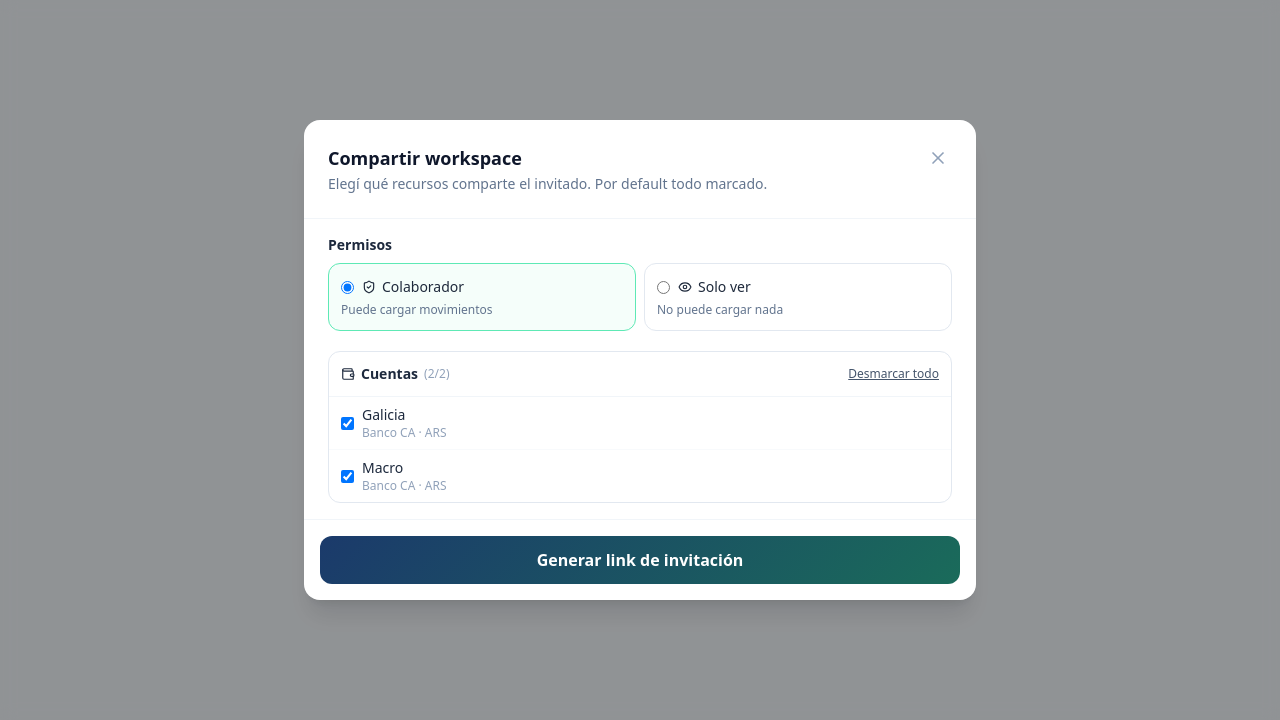
Test: ShareWorkspaceModal — secciones › "Desmarcar todo" desmarca toda la sección
The image size is (1280, 720).
Expected: the text "Galicia" is shown, [362,405,406,424]
Click the button "Desmarcar todo" at coordinates (894, 374), box [848,366,939,382]
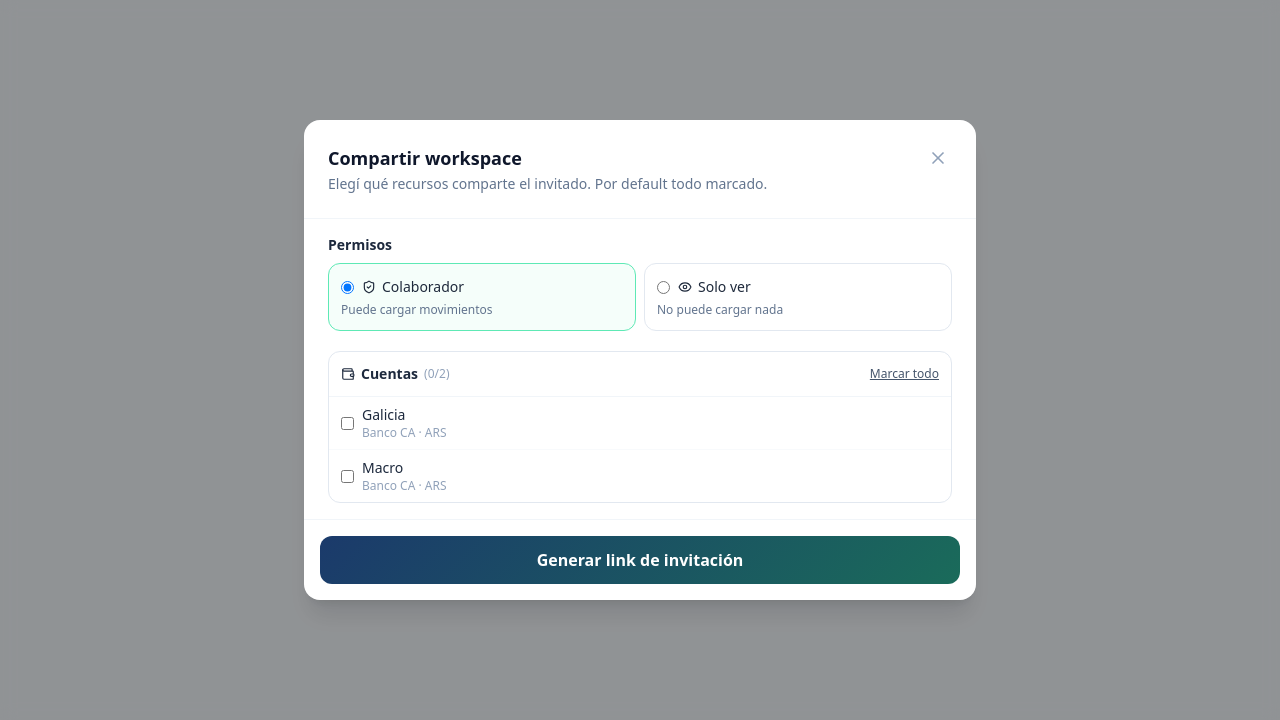
Result: the checkbox labelled "Galicia Banco CA · ARS" is not checked at [341,416,354,430]
Result: the checkbox labelled "Macro Banco CA · ARS" is not checked at [341,470,354,482]
